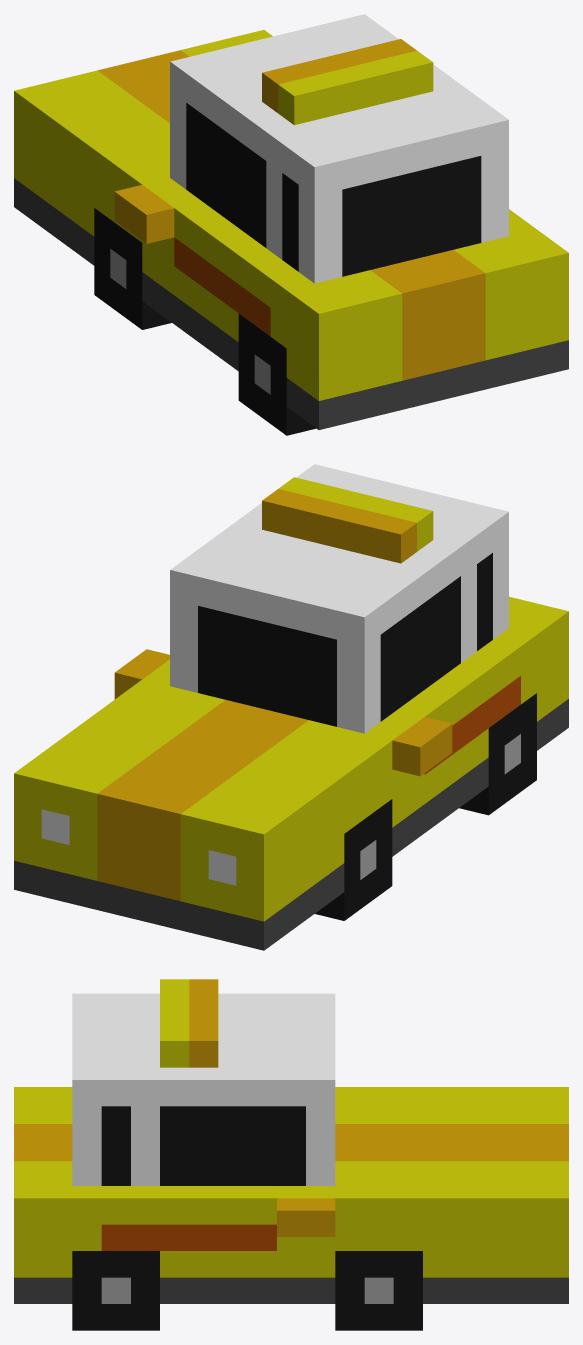
The model's file is taxi.obj.
3 views of the same model, one above another, from view 1: azimuth 30°, elevation 25°; view 2: azimuth 150°, elevation 25°; view 3: azimuth 270°, elevation 25° (orthographic). The views are drawn at different scales.
Parts seen in each view (by area): view 1: taxi; view 2: taxi; view 3: taxi.
Part boxes in pixels (x1,y1,x2,y2): taxi: [14, 14, 568, 435]; taxi: [14, 464, 568, 950]; taxi: [14, 979, 568, 1330].
Bounding box in the file's own units: 11 × 10 × 19.
1 material, 1 textured.
